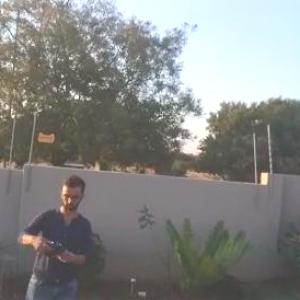follow: (13, 166, 96, 299)
